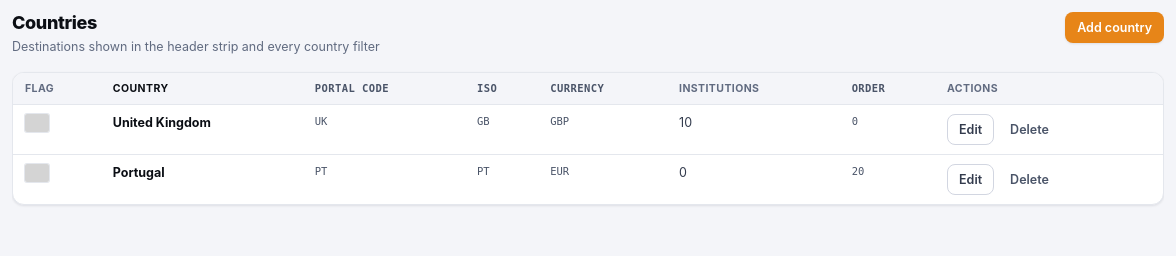
Test: AdminCountries › surfaces the API reason when a delete is refused
Expected: the text "Portugal" is shown, [101,154,303,204]
What coordinates should you click on to do the following:
click the button "Delete" in the row of "Portugal"
I would click on:
 (1030, 179)
Its box is [998,164,1061,195].
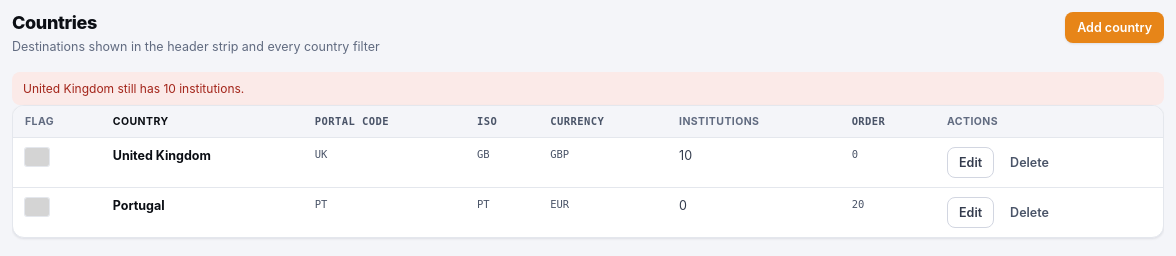
Now the text "United Kingdom still has 10 institutions." is shown, box [12,72,1164,105]
